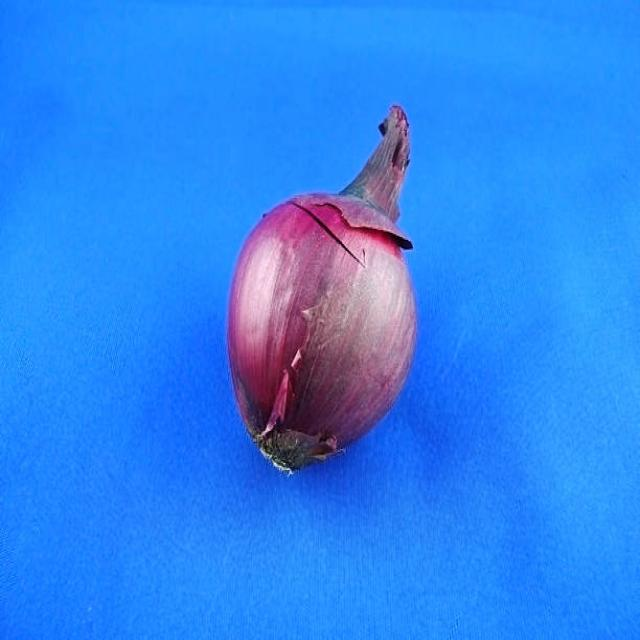onion: (220, 173, 436, 478)
